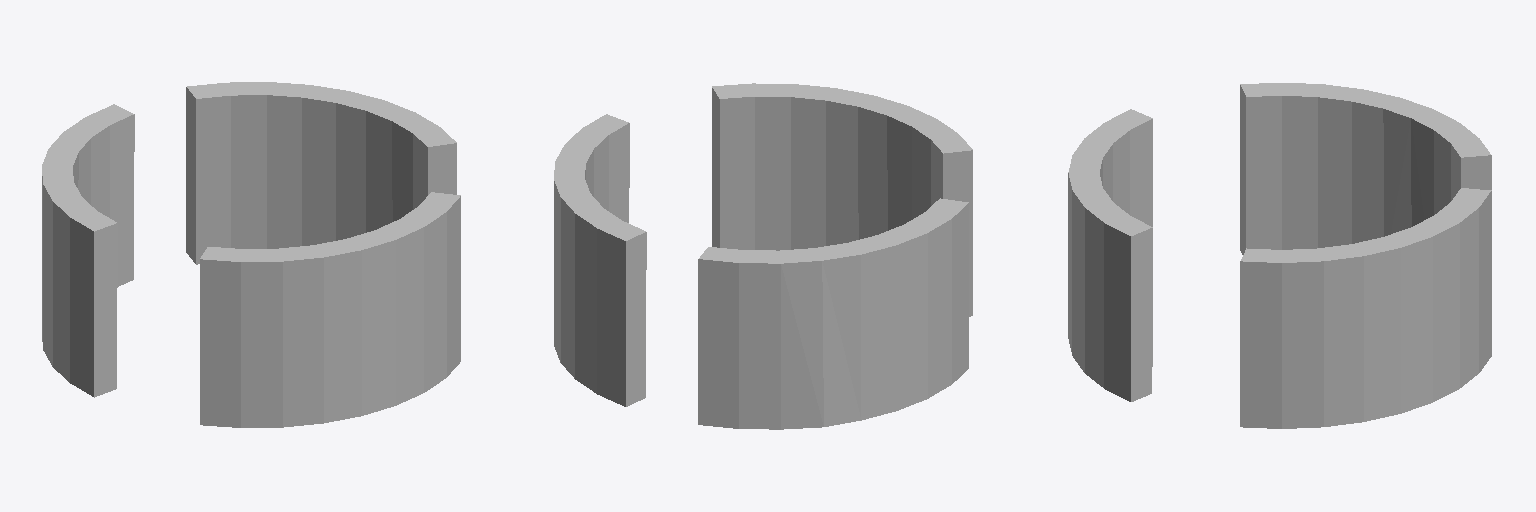
File: salarellena.obj
3 views of the same model, side by side, from view 1: azimuth 30°, elevation 25°; view 2: azimuth 150°, elevation 25°; view 3: azimuth 270°, elevation 25° (orthographic).
Parts seen in each view (by area): view 1: Cylinder; view 2: Cylinder; view 3: Cylinder.
Part boxes in pixels (x1,y1,x2,y2): Cylinder: (42, 82, 460, 427); Cylinder: (554, 83, 972, 429); Cylinder: (1068, 83, 1491, 428).
Size of the model in its own units: 14 by 6.01 by 13.87.